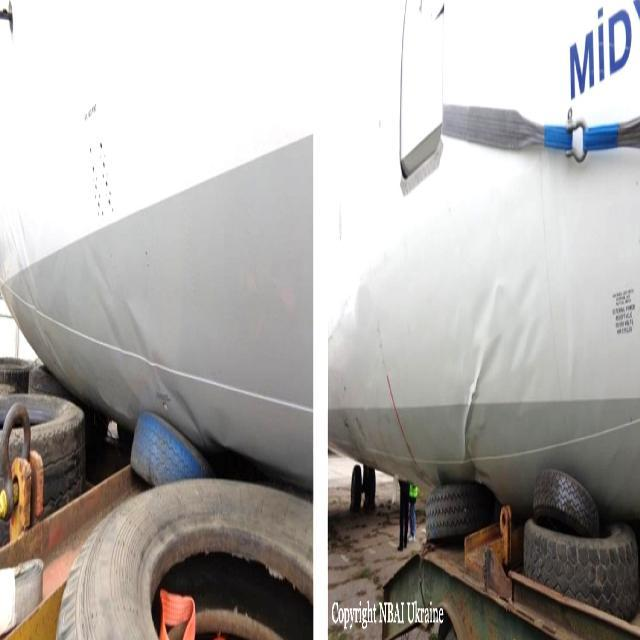dent: (82, 240, 214, 452), (458, 258, 549, 487)
